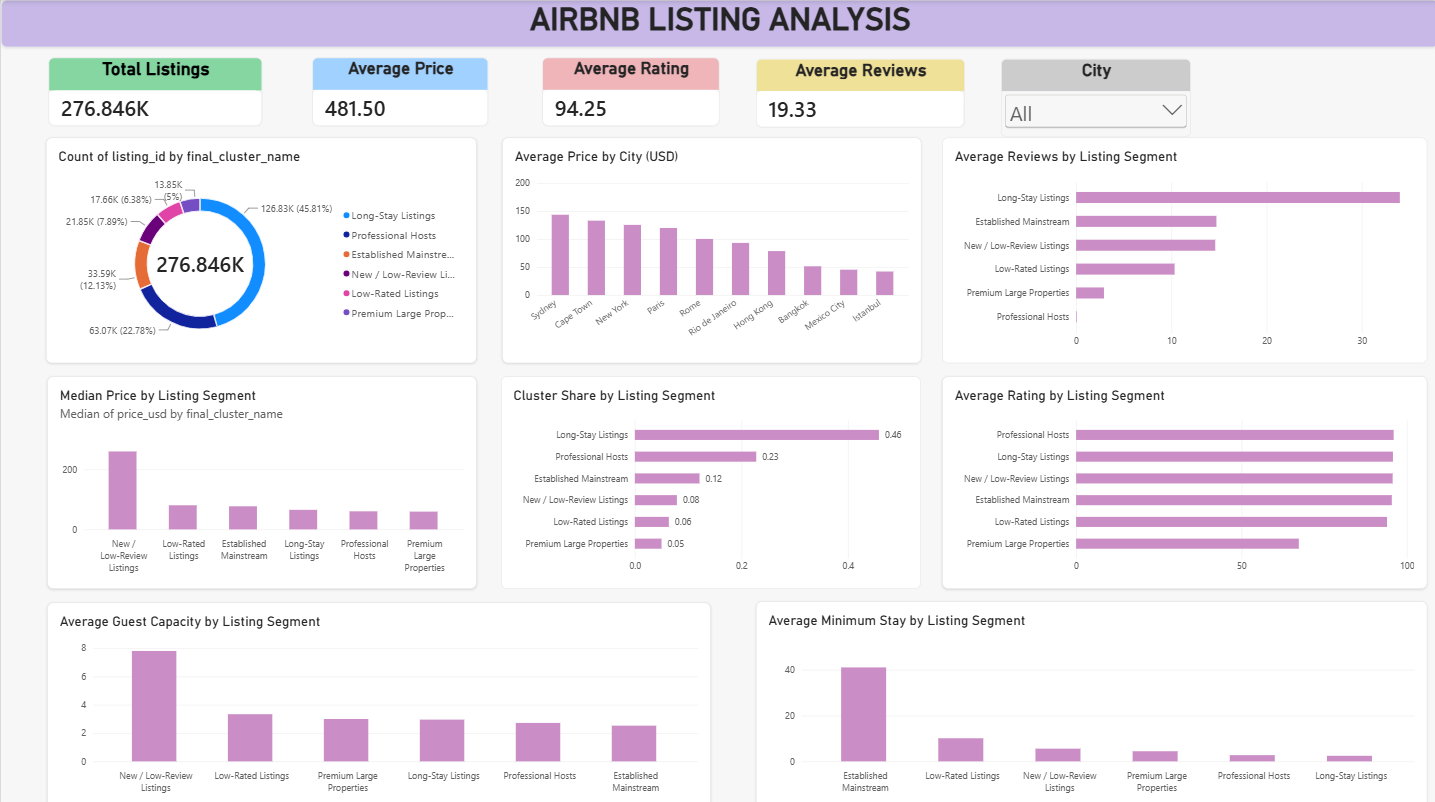

Layout of this report page (visuals, bound fields, positions):
{"tool":"powerbi","page":{"name":"Page 1","canvas":[1920,1080],"ordinal":0},"visuals":[{"type":"cardVisual","title":"Total Listings","fields":{"Data":["Count(vw_AirbnbDashboard.listing_id)"]},"box":[63.3,76.7,285.5,91.8],"z":0},{"type":"cardVisual","title":"Average Price","fields":{"Data":["Avg(vw_AirbnbDashboard.price)"]},"box":[415,76.7,235.4,91.8],"z":1000},{"type":"cardVisual","title":"Average Rating","fields":{"Data":["Avg(vw_AirbnbDashboard.review_scores_rating)"]},"box":[723.3,76.7,237.1,91.8],"z":2000},{"type":"cardVisual","title":"Average Reviews","fields":{"Data":["Avg(vw_AirbnbDashboard.total_reviews)"]},"box":[1008.3,78.3,278.9,91.8],"z":3000},{"type":"donutChart","fields":{"Category":["vw_AirbnbDashboard.final_cluster_name"],"Y":["Count(vw_AirbnbDashboard.listing_id)"]},"box":[60,183.3,575,301.7],"z":4000},{"type":"slicer","title":"City","fields":{"Values":["vw_AirbnbDashboard.city"]},"box":[1335,78.3,253.8,105.2],"z":5000},{"type":"clusteredColumnChart","title":"Median Price by Listing Segment","fields":{"Category":["vw_AirbnbDashboard.final_cluster_name"],"Y":["Median(vw_AirbnbDashboard.price_usd)"]},"box":[61.2,502.5,573.8,283.8],"z":6000},{"type":"clusteredBarChart","title":"Average Rating by Listing Segment","fields":{"Category":["vw_AirbnbDashboard.final_cluster_name"],"Y":["Avg(vw_AirbnbDashboard.review_scores_rating)"]},"box":[1257.3,502.6,647.9,283.9],"z":7000},{"type":"clusteredBarChart","title":"Average Reviews by Listing Segment","fields":{"Category":["vw_AirbnbDashboard.final_cluster_name"],"Y":["Avg(vw_AirbnbDashboard.total_reviews)"]},"box":[1256.7,183.3,648.3,301.7],"z":8000},{"type":"clusteredColumnChart","title":"Average Guest Capacity by Listing Segment","fields":{"Category":["AirbnbFinal.final_cluster_name"],"Y":["Avg(AirbnbFinal.accommodates)"]},"box":[61.7,805,886.7,275],"z":9000},{"type":"clusteredColumnChart","title":"Average Minimum Stay by Listing Segment","fields":{"Category":["AirbnbFinal.final_cluster_name"],"Y":["Avg(AirbnbFinal.minimum_nights)"]},"box":[1008.3,803.3,896.7,276.7],"z":10000},{"type":"clusteredBarChart","title":"Cluster Share by Listing Segment","fields":{"Category":["AirbnbFinal.final_cluster_name"],"Y":["vw_AirbnbDashboard.Listing Share %"]},"box":[667.9,502.6,561,283.9],"z":11000},{"type":"clusteredColumnChart","title":"Average Price by City (USD)","fields":{"Category":["vw_AirbnbDashboard.city"],"Y":["Avg(vw_AirbnbDashboard.price_usd)"]},"box":[668.8,183.8,560,301.2],"z":12000},{"type":"textbox","title":" AIRBNB LISTING ANALYSIS ","box":[0,0,1920,63.3],"z":13000}]}

Visuals, with their boxes in screenshot pixels (x1, y1, x2, y2), scaled from the page's 1920x1080 canvas onto the 1435x802 screenshot:
"Total Listings" cardVisual: (47,57,261,125)
"Average Price" cardVisual: (310,57,486,125)
"Average Rating" cardVisual: (541,57,718,125)
"Average Reviews" cardVisual: (754,58,962,126)
donutChart - vw_AirbnbDashboard.final_cluster_name x Count(vw_AirbnbDashboard.listing_id): (45,136,475,360)
"City" slicer: (998,58,1187,136)
"Median Price by Listing Segment" clusteredColumnChart: (46,373,475,584)
"Average Rating by Listing Segment" clusteredBarChart: (940,373,1424,584)
"Average Reviews by Listing Segment" clusteredBarChart: (939,136,1424,360)
"Average Guest Capacity by Listing Segment" clusteredColumnChart: (46,598,709,801)
"Average Minimum Stay by Listing Segment" clusteredColumnChart: (754,597,1424,801)
"Cluster Share by Listing Segment" clusteredBarChart: (499,373,918,584)
"Average Price by City (USD)" clusteredColumnChart: (500,136,918,360)
" AIRBNB LISTING ANALYSIS " textbox: (0,0,1434,47)
